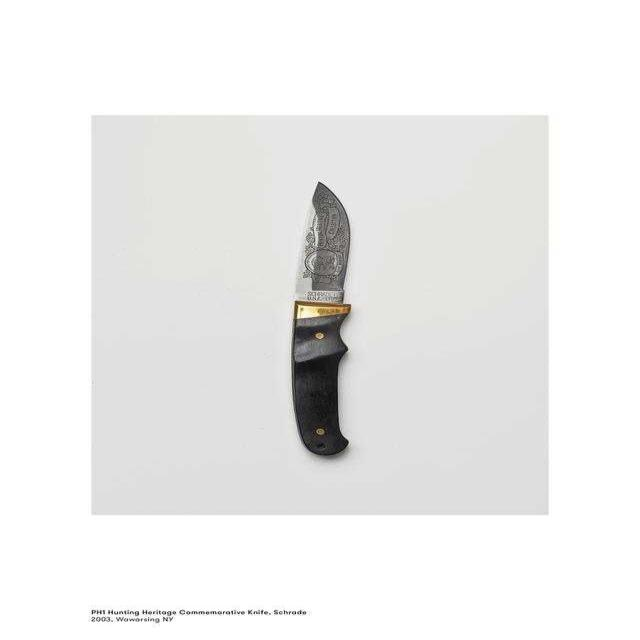Knife: (283, 170, 377, 466)
